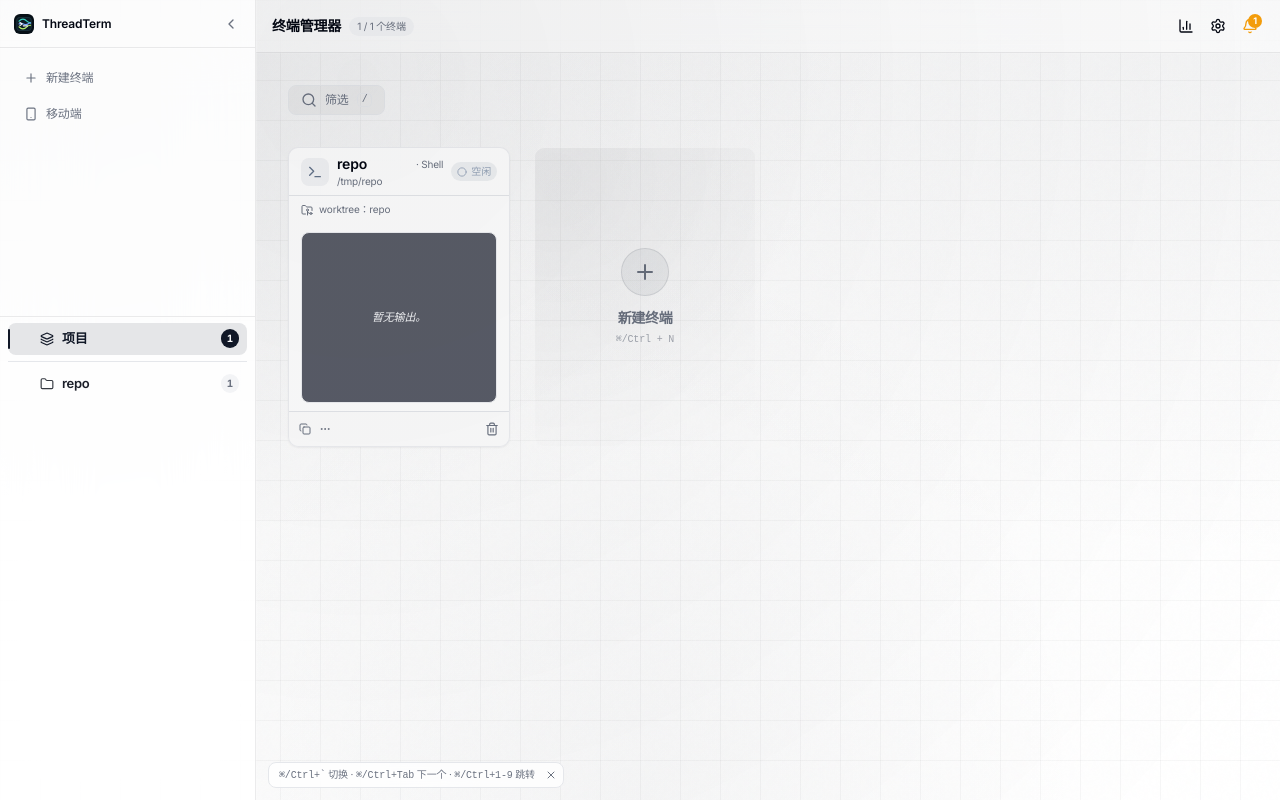
TerminalManager shortcut hint layout › hides the shortcut hint after the dismiss button is clicked
Click the button with test id "shortcut-hint-dismiss" at coordinates (551, 775), box [543,767,559,783]
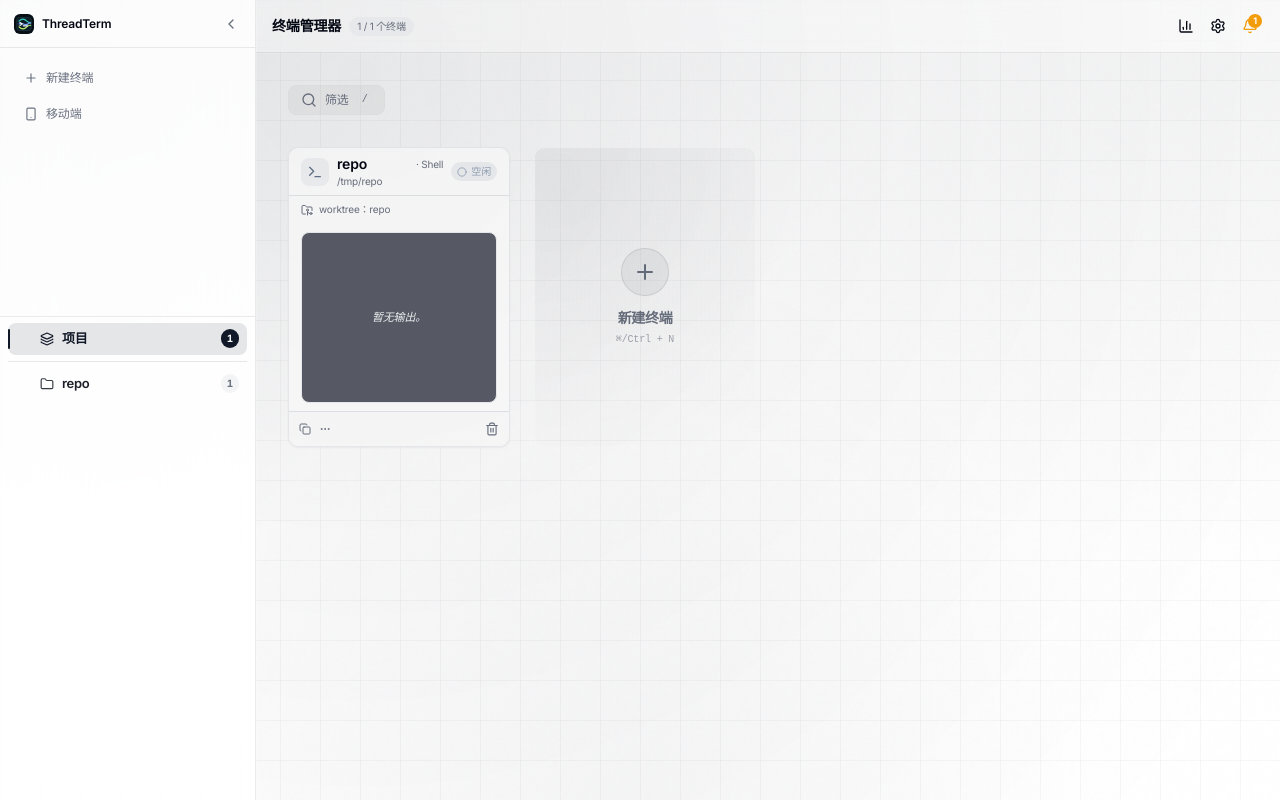
Result: the button with test id "shortcut-hint-dismiss" is gone
Result: the text "Ctrl+Tab" is gone
